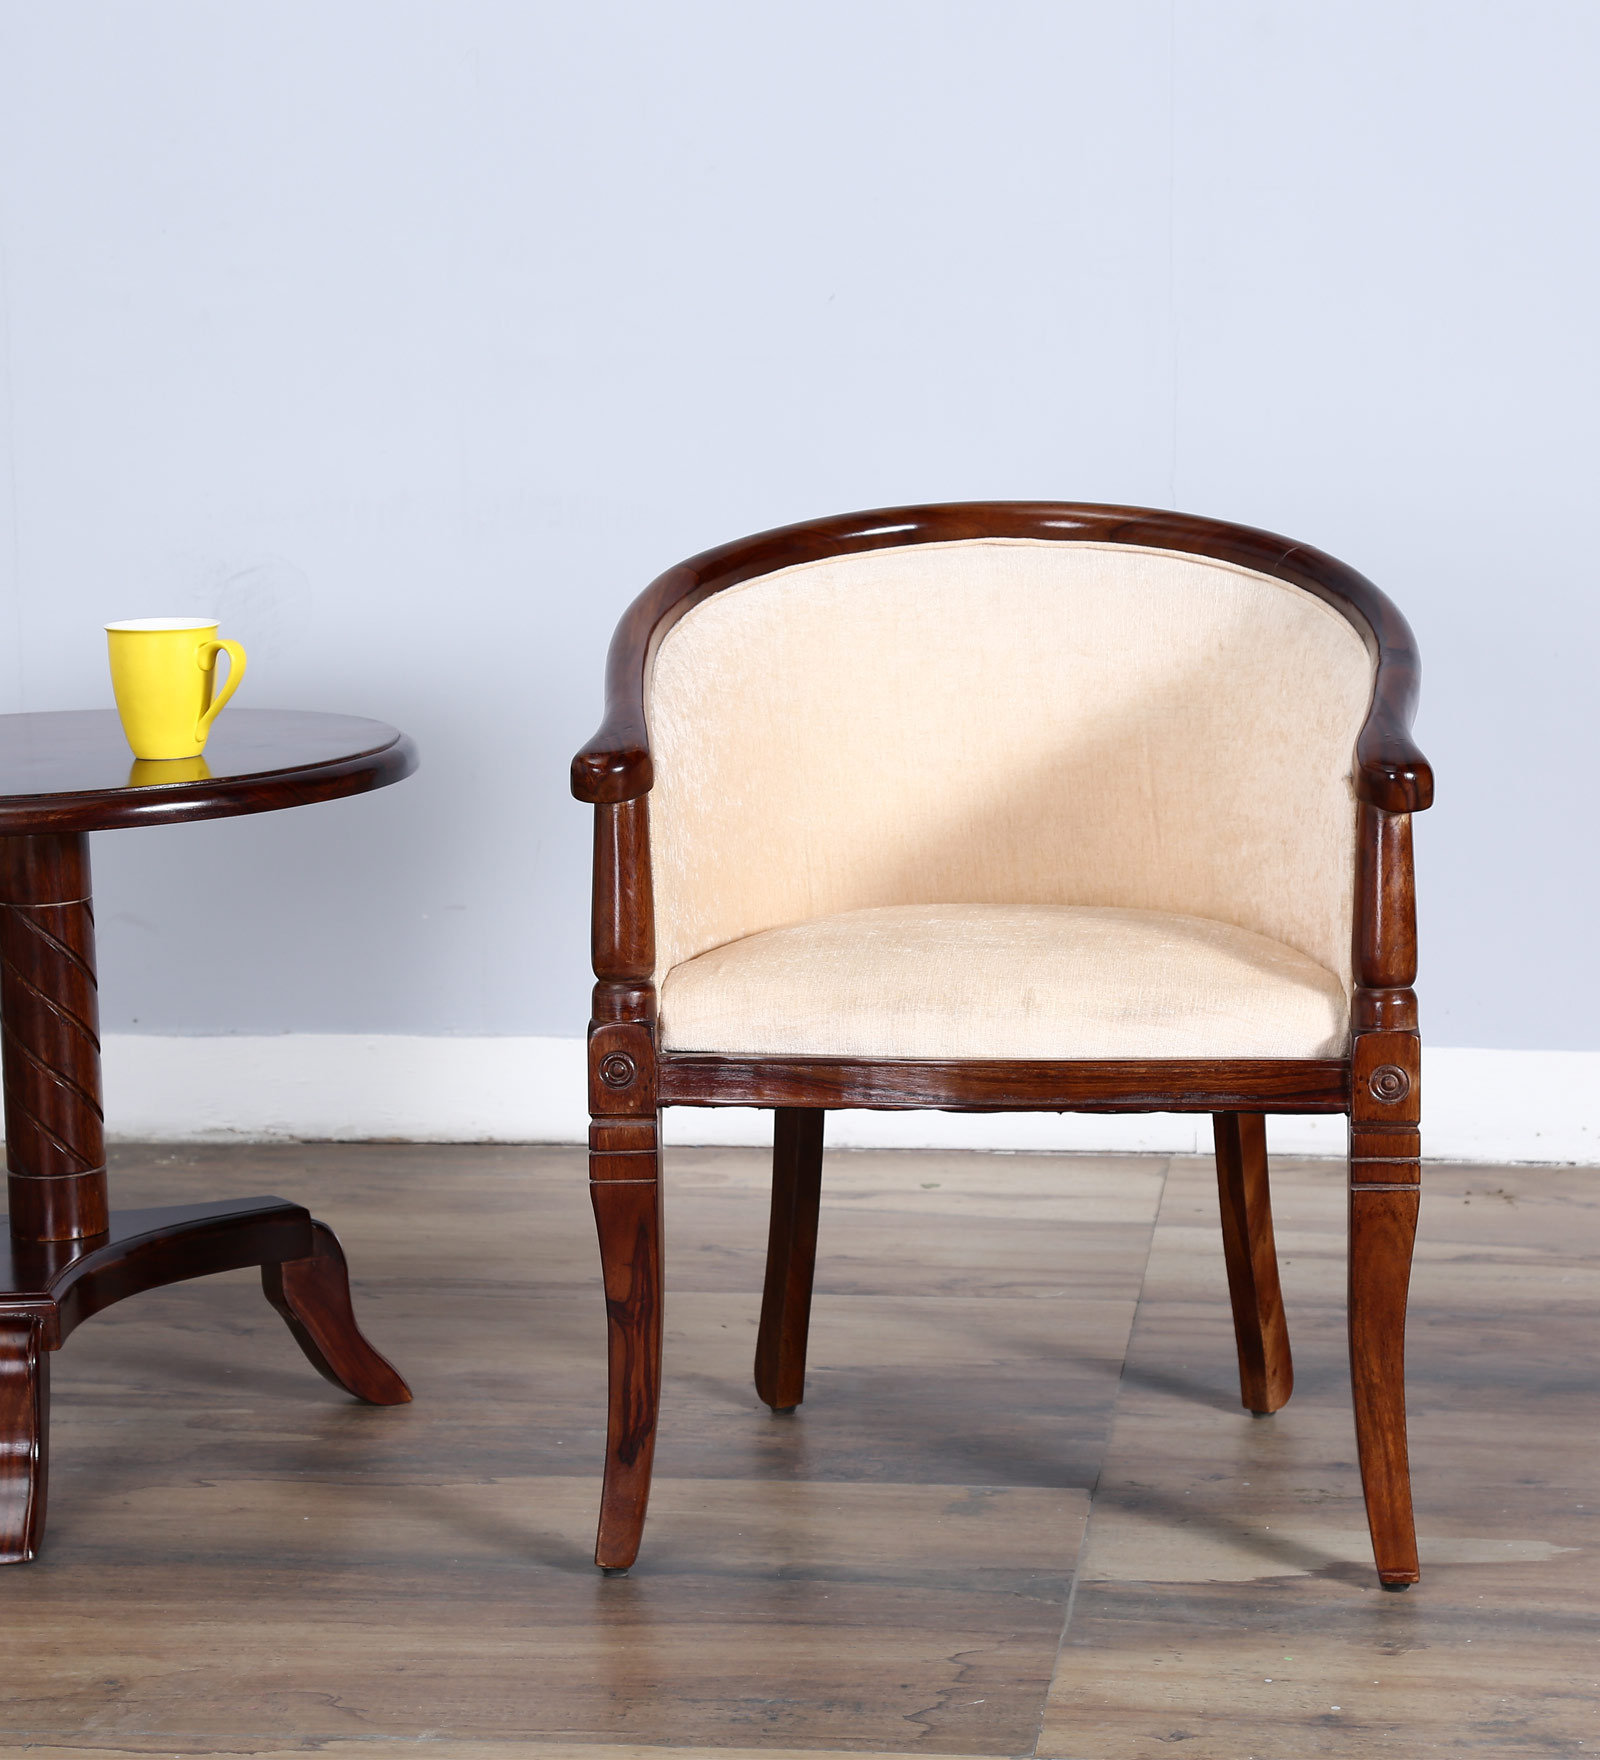Stalley Arm Chair in Cream Color with Honey Oak Finish by Amberville: (461, 422, 1510, 1671)
